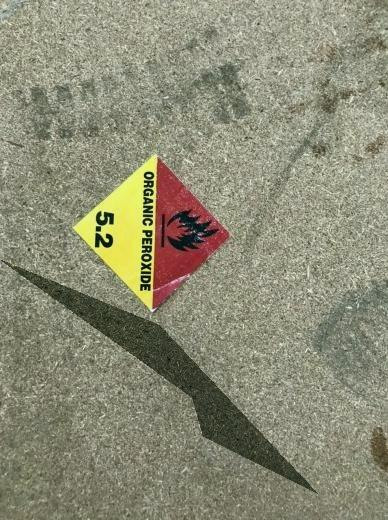organic-peroxide: (74, 153, 231, 312)
